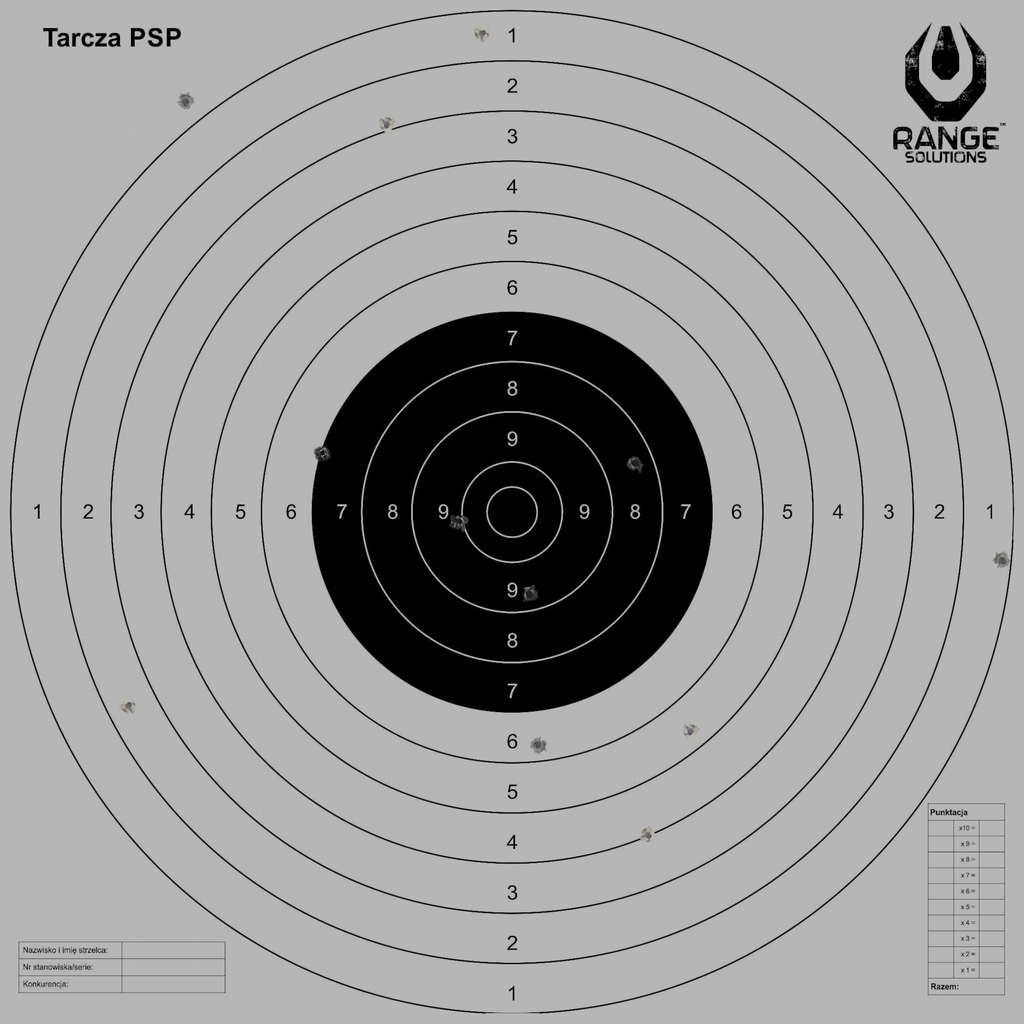0 punktow: (177, 93, 195, 111)
1 punkt: (993, 551, 1011, 570)
10 punktow: (449, 512, 468, 531)
2 punkty: (120, 696, 138, 715)
3 punkty: (377, 116, 396, 134)
4 punkty: (639, 826, 657, 845)
5 punktow: (681, 722, 700, 741)
6 punktow: (529, 736, 547, 754)
7 punktow: (313, 444, 332, 462)
8 punktow: (626, 454, 644, 473)
9 punktow: (520, 585, 539, 603)
